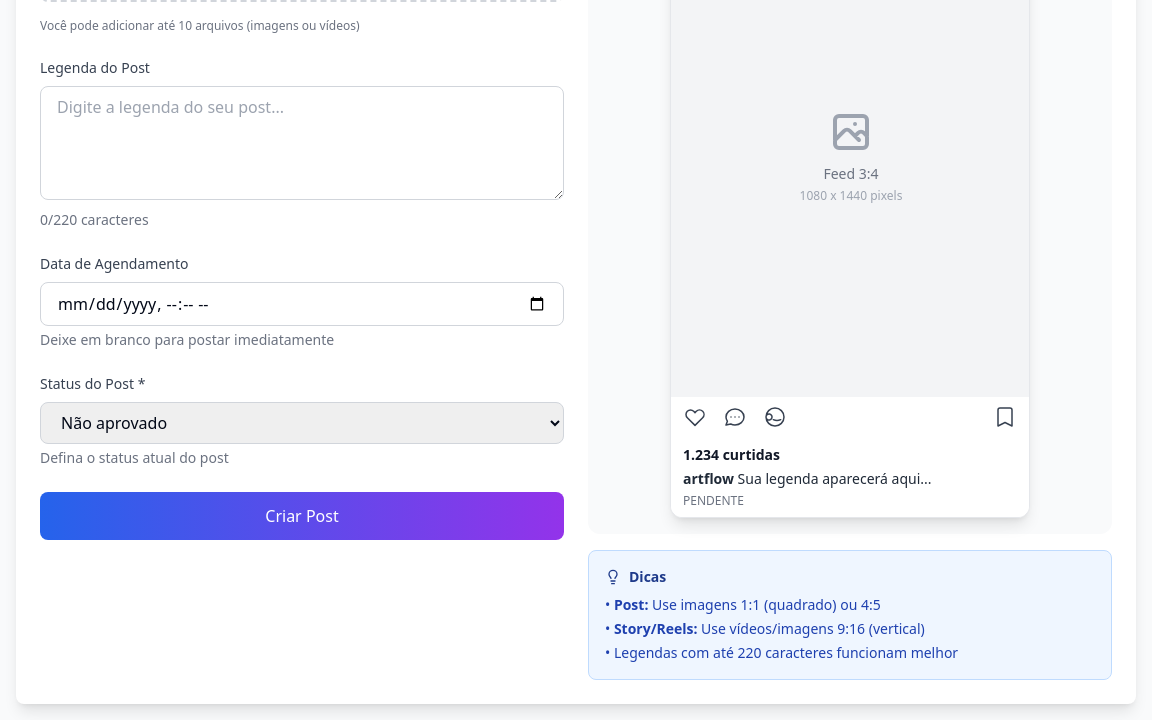
Test: PostForm Component › Form Validation › should show validation error for missing file
(page scrolled)
Click the button "Criar Post" at (302, 516), box [40,492,564,540]
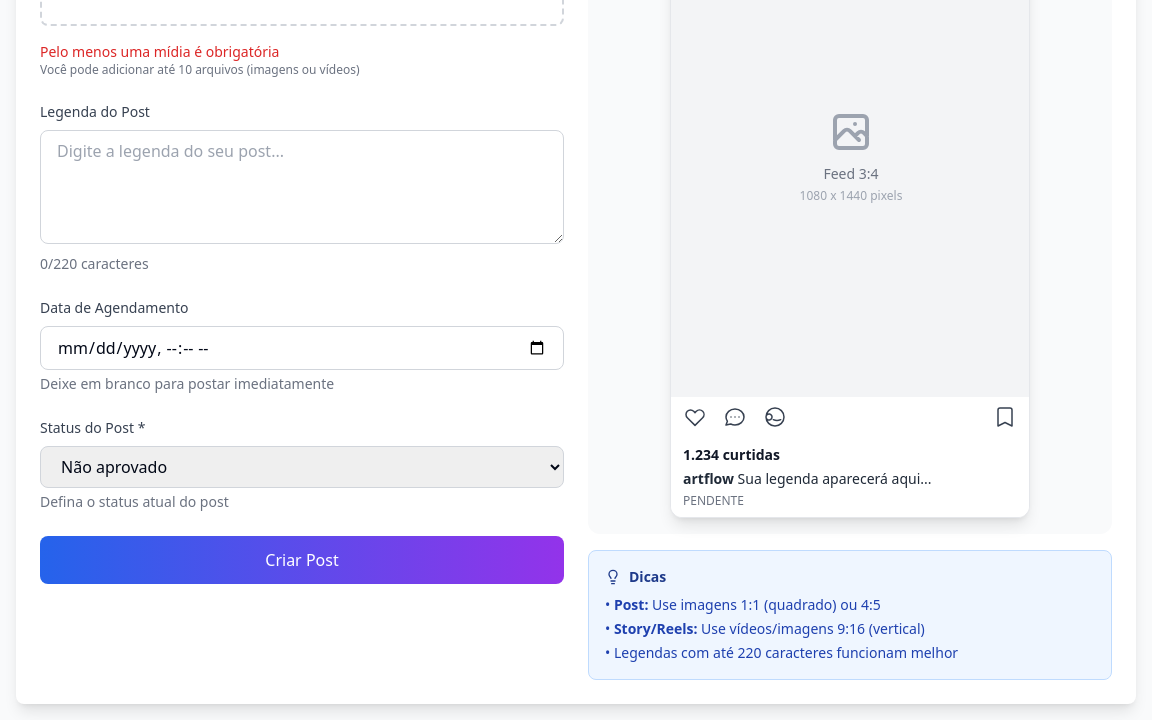
Now the text "Pelo menos uma mídia é obrigatória" is shown, box [40,42,280,61]
